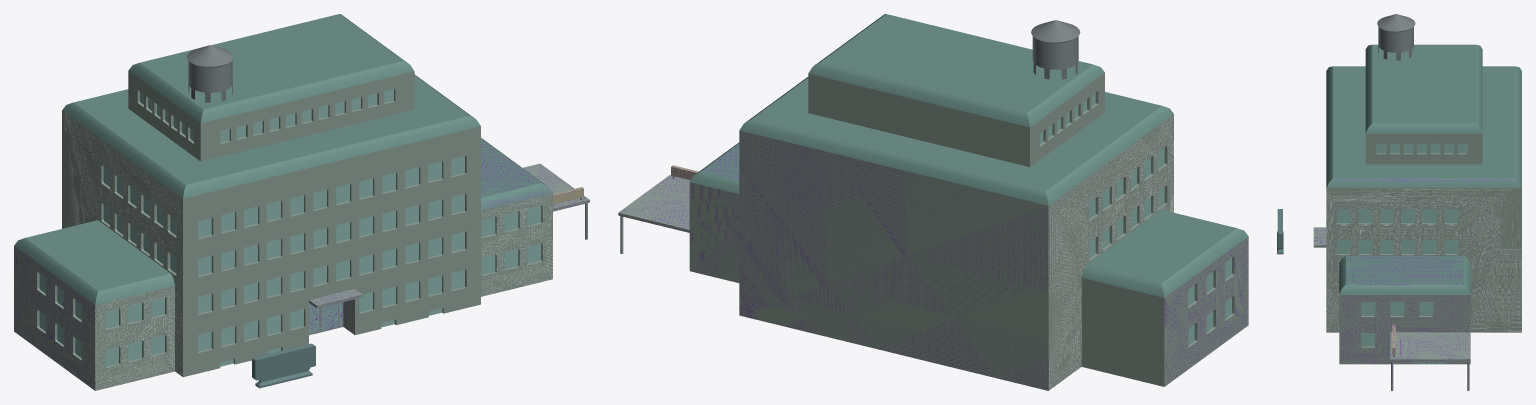
The model's file is hospital.dae.
The picture shows the model from 3 angles, left to right: view 1: azimuth 30°, elevation 25°; view 2: azimuth 150°, elevation 25°; view 3: azimuth 270°, elevation 25°; orthographic projection. The views are drawn at different scales.
Parts seen in each view (by area): view 1: SketchUp (×14); view 2: SketchUp (×12); view 3: SketchUp (×13).
Part boxes in pixels (box(x1,y1,x2,y2)): SketchUp (×14): box(14, 14, 589, 390); SketchUp (×12): box(618, 14, 1248, 390); SketchUp (×13): box(1277, 14, 1521, 364).
Bounding box in the file's own units: 1369 × 682 × 704.
